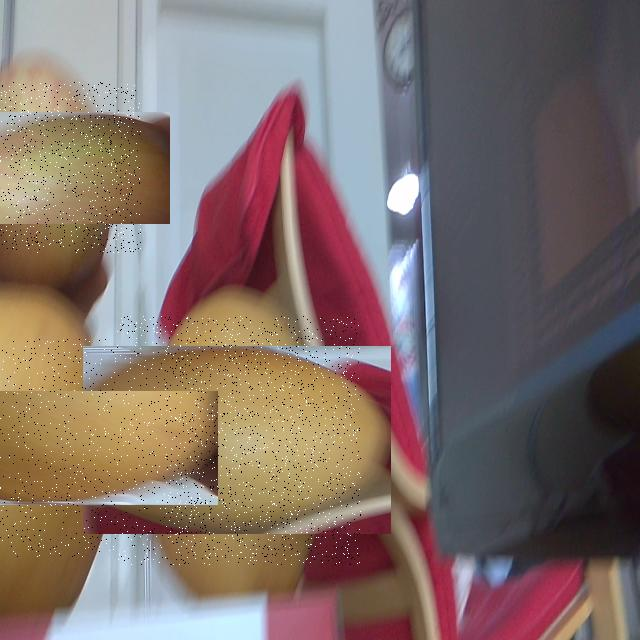apple: (0, 82, 141, 253)
pear: (113, 316, 361, 565), (0, 339, 166, 557)
